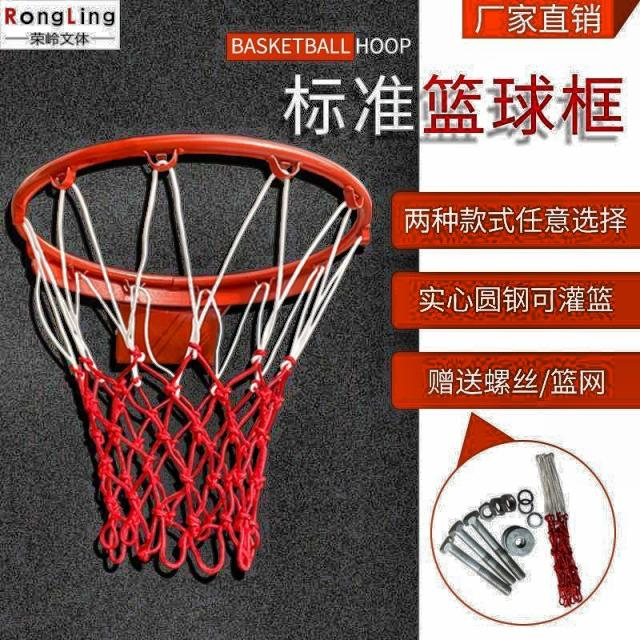rim: (20, 137, 373, 580)
